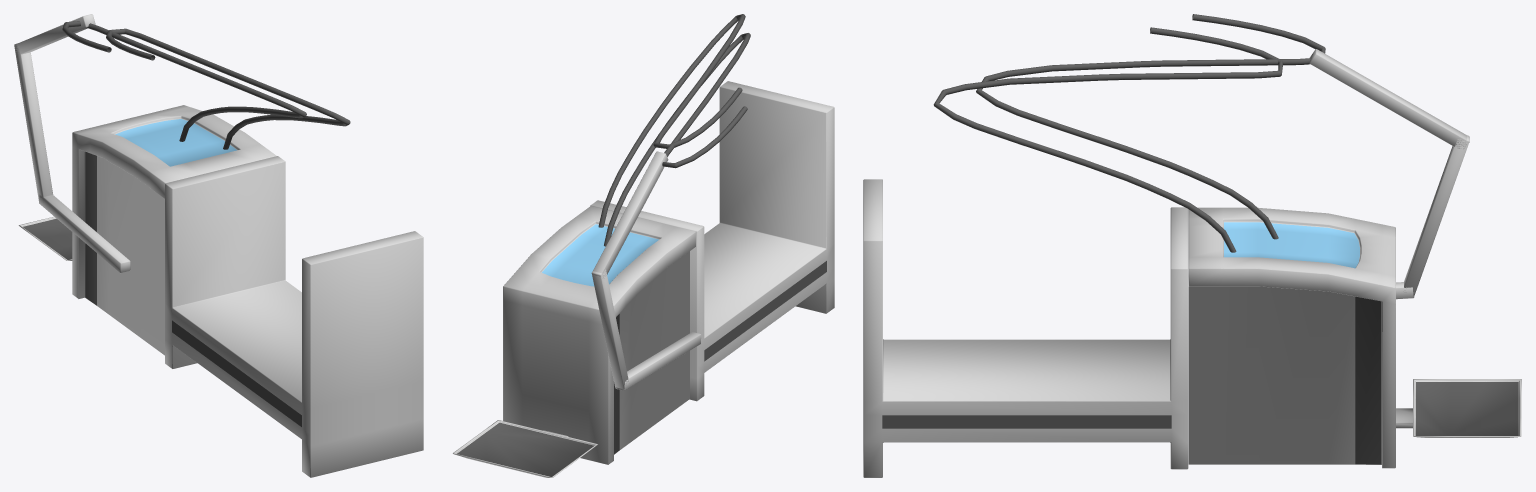
3 renders of one model, left to right at view 1: azimuth 30°, elevation 25°; view 2: azimuth 150°, elevation 25°; view 3: azimuth 270°, elevation 25°, orthographic. The views are drawn at different scales.
Visible parts, largest first — view 1: Cube.001; view 2: Cube.001; view 3: Cube.001.
Part boxes in pixels (x1,y1,x2,y2): Cube.001: [14, 14, 423, 477]; Cube.001: [453, 14, 834, 477]; Cube.001: [863, 14, 1521, 477].
Size of the model in its own units: 31.72 by 59.38 by 94.83.
